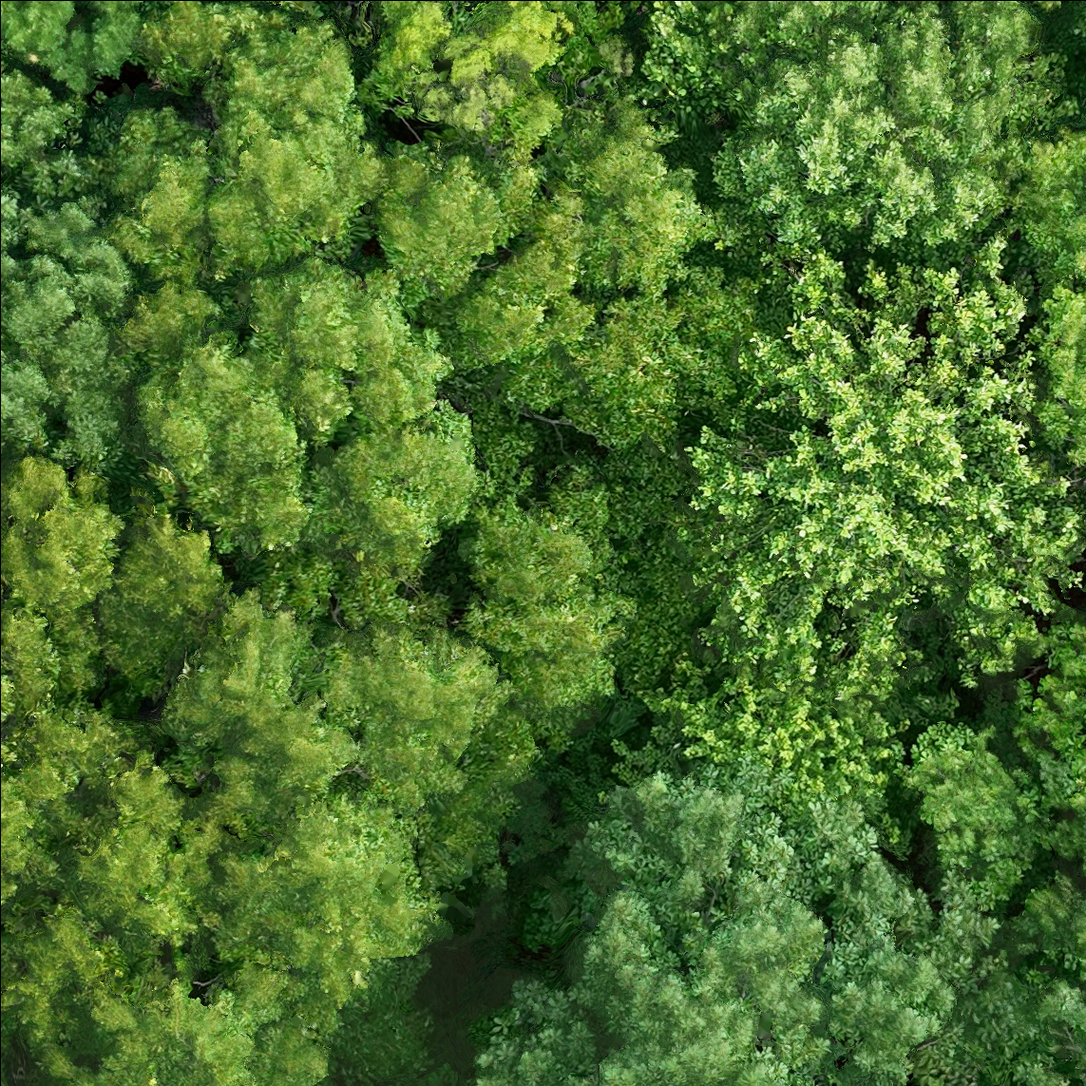Tree: (137, 276, 614, 820), (14, 474, 400, 1082), (700, 281, 1057, 672), (370, 98, 760, 434), (529, 797, 923, 1070), (650, 6, 1085, 250), (122, 4, 358, 263), (644, 631, 930, 820), (580, 458, 730, 736), (954, 891, 1082, 1076), (350, 4, 619, 91), (11, 121, 88, 412), (904, 738, 1036, 907), (0, 3, 150, 95), (1034, 610, 1085, 817), (1045, 156, 1077, 445)
